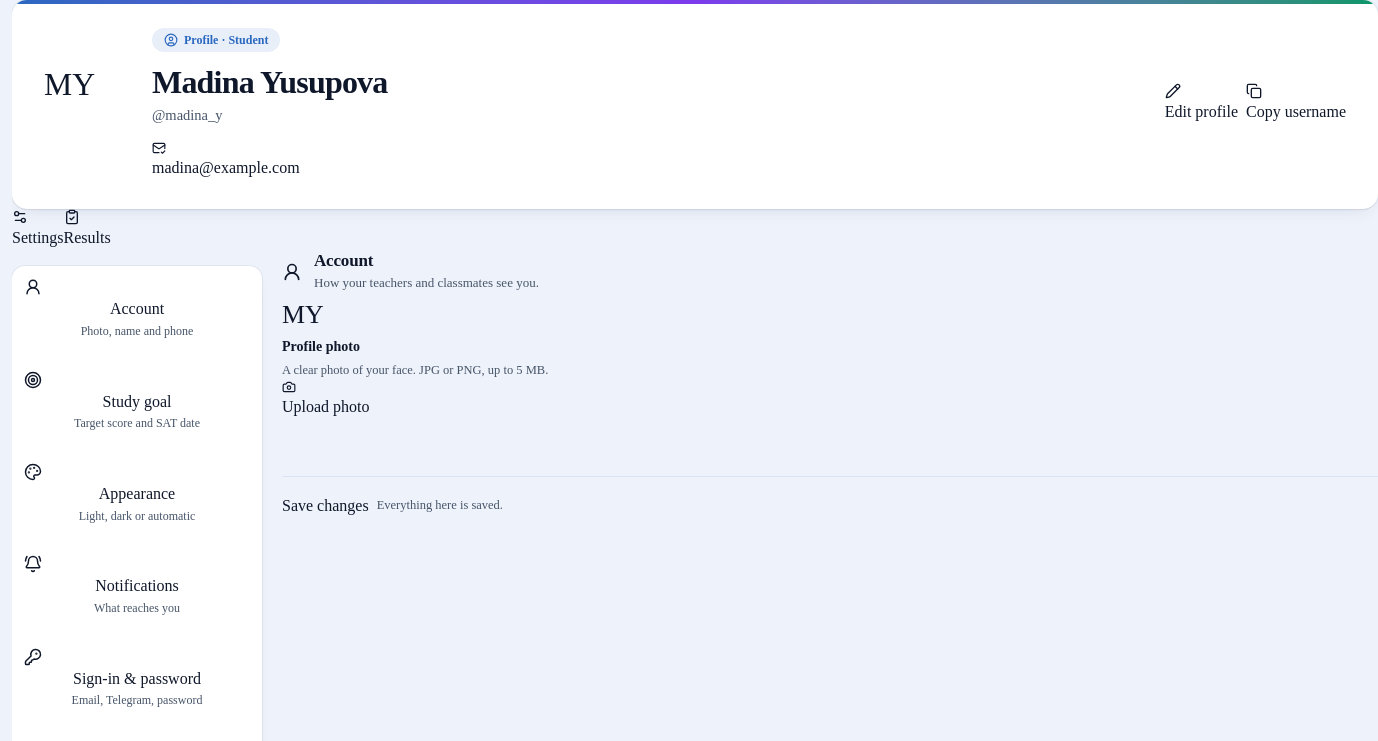
Test case: A public learner › says there are no results yet when nothing is finished
What coordinates should you click on to do the following:
click the tab "Results"
I would click on:
 (87, 229)
Its box is x1=64 y1=209 x2=111 y2=250.
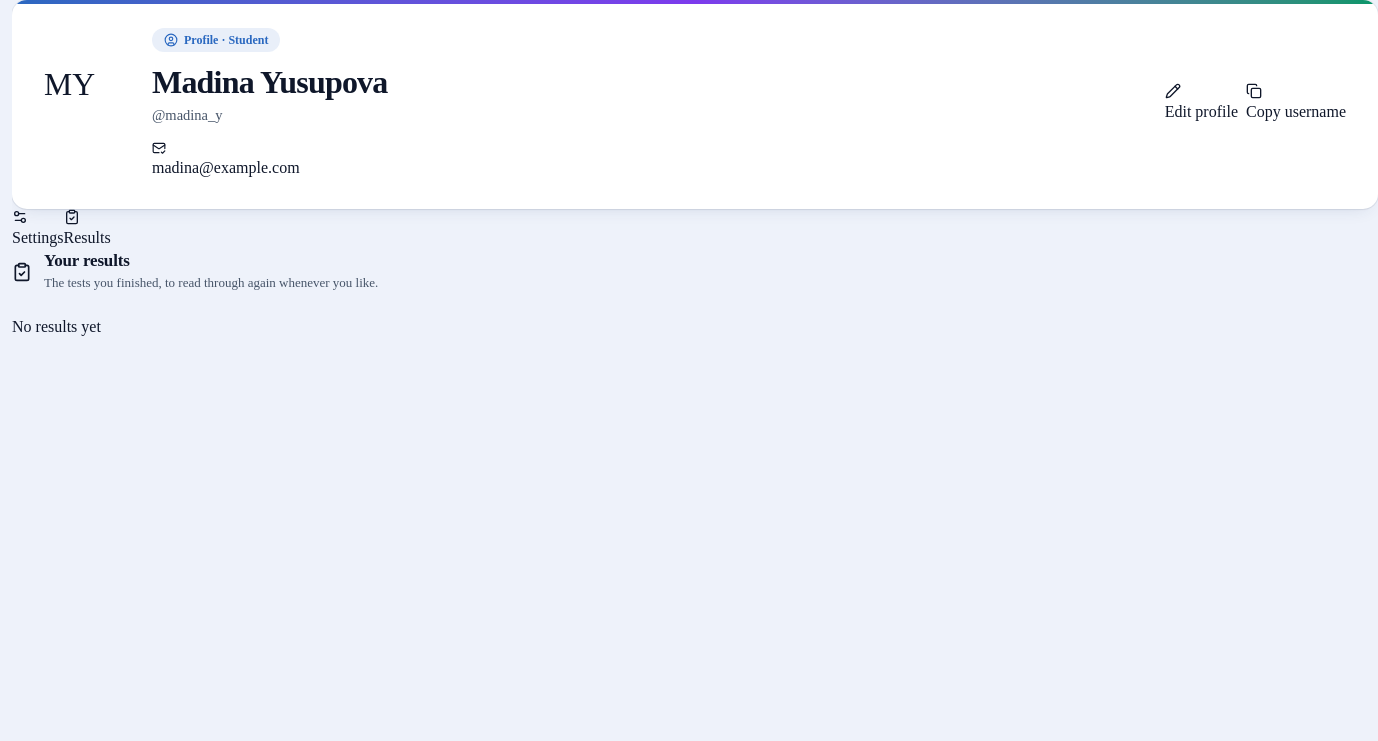
expect the text "No results yet" is shown: met, box x1=12 y1=318 x2=101 y2=335
